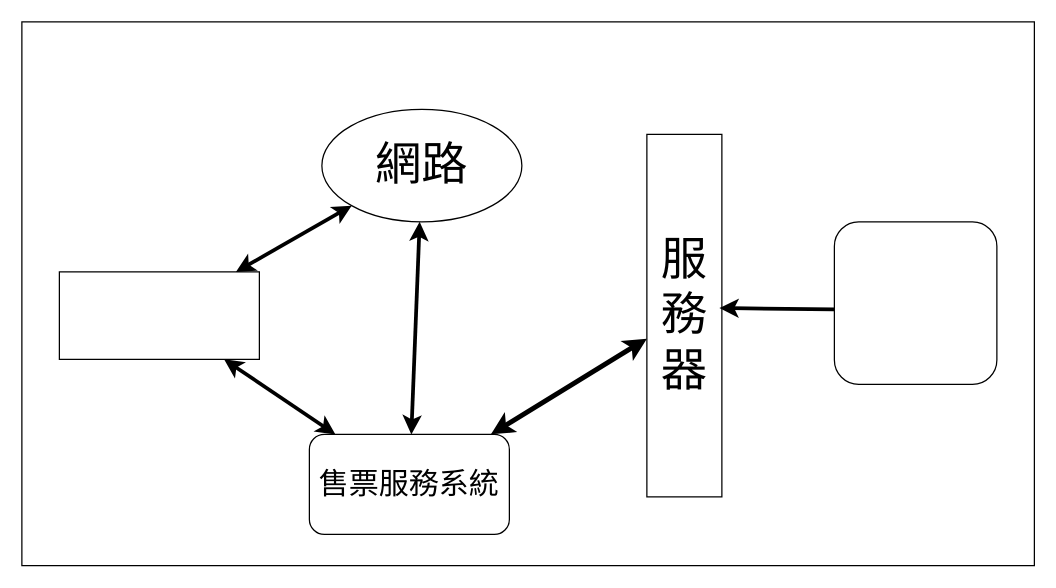
Image size: 1056x588. Some labels were removed from this diagram. Each missing label, with the centre of its shape:
客戶端系統: pixel 158 315
服務器管理系統: pixel 915 302
